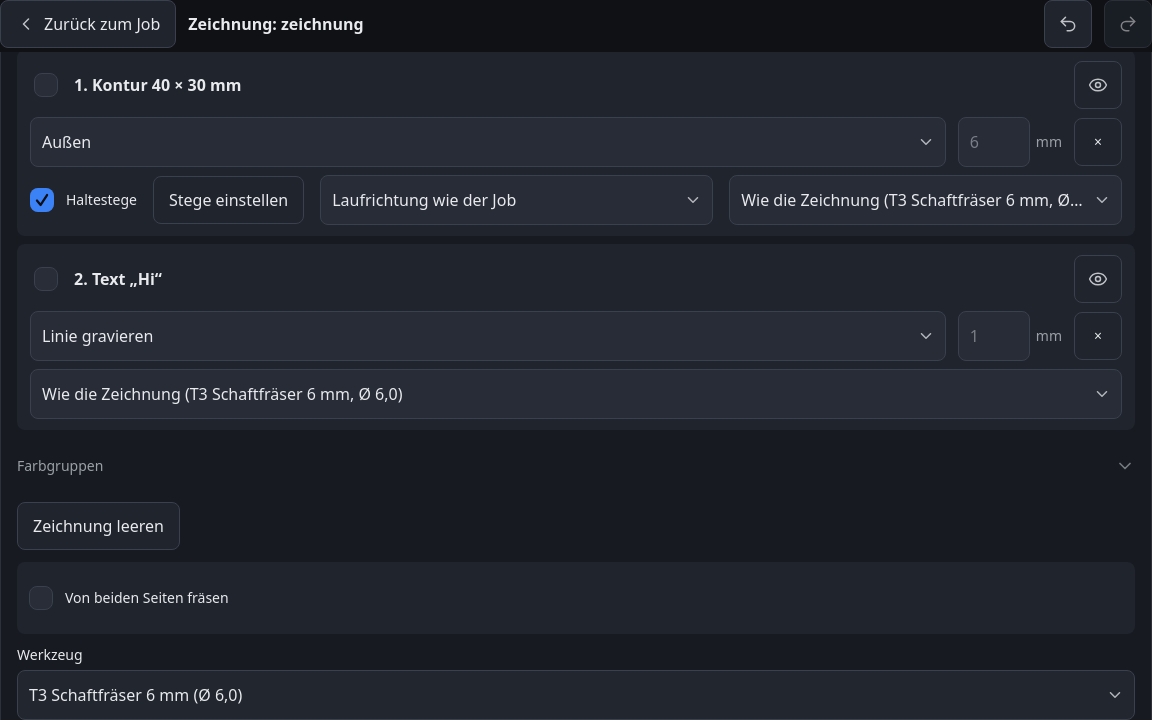
the cutter of a part in the list › a cutter without values of its own says so: it cuts with the drawing’s feed, speed and stepdown
Select "T5 Schaftfräser 2 mm (Ø 2,0)" in the dropdown named "Werkzeug von Teil 2" at {"x": 576, "y": 394}, box [31,370,1121,418]
(page scrolled)
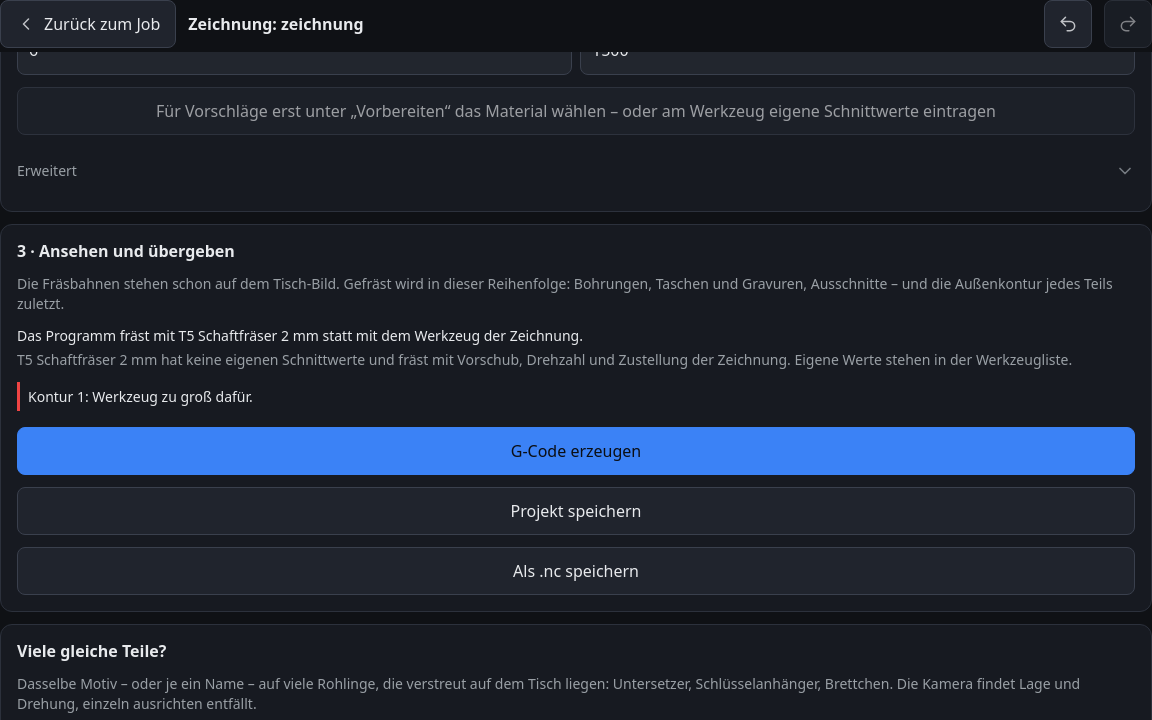
Expected: the number of elements with test id "cam-tools-values" is 1, [17,350,1135,370]
